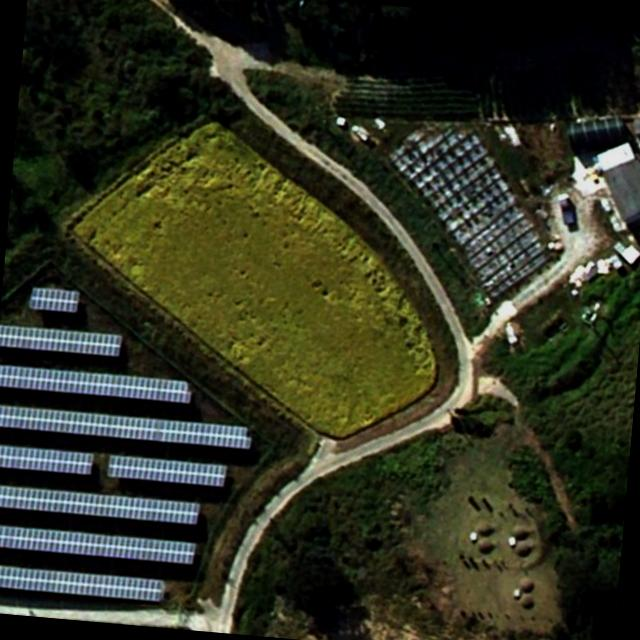solar: (0, 402, 254, 451), (0, 482, 202, 525), (0, 523, 199, 566), (0, 363, 195, 404), (0, 561, 166, 606), (0, 322, 125, 358), (106, 453, 230, 489), (0, 442, 95, 478), (27, 286, 82, 316)
